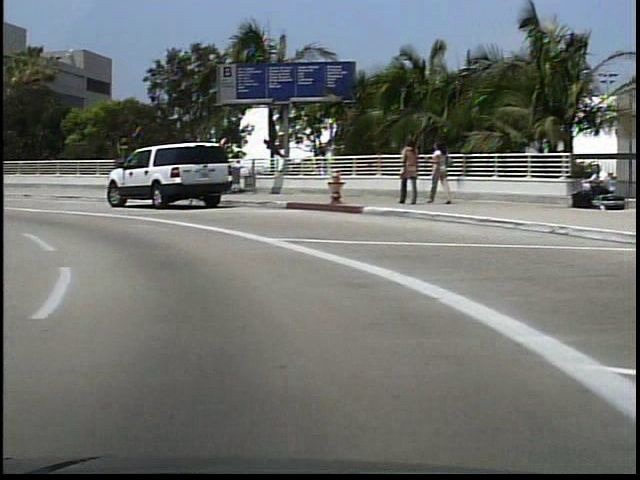person: (567, 162, 606, 208), (420, 139, 446, 208), (394, 134, 417, 212)
